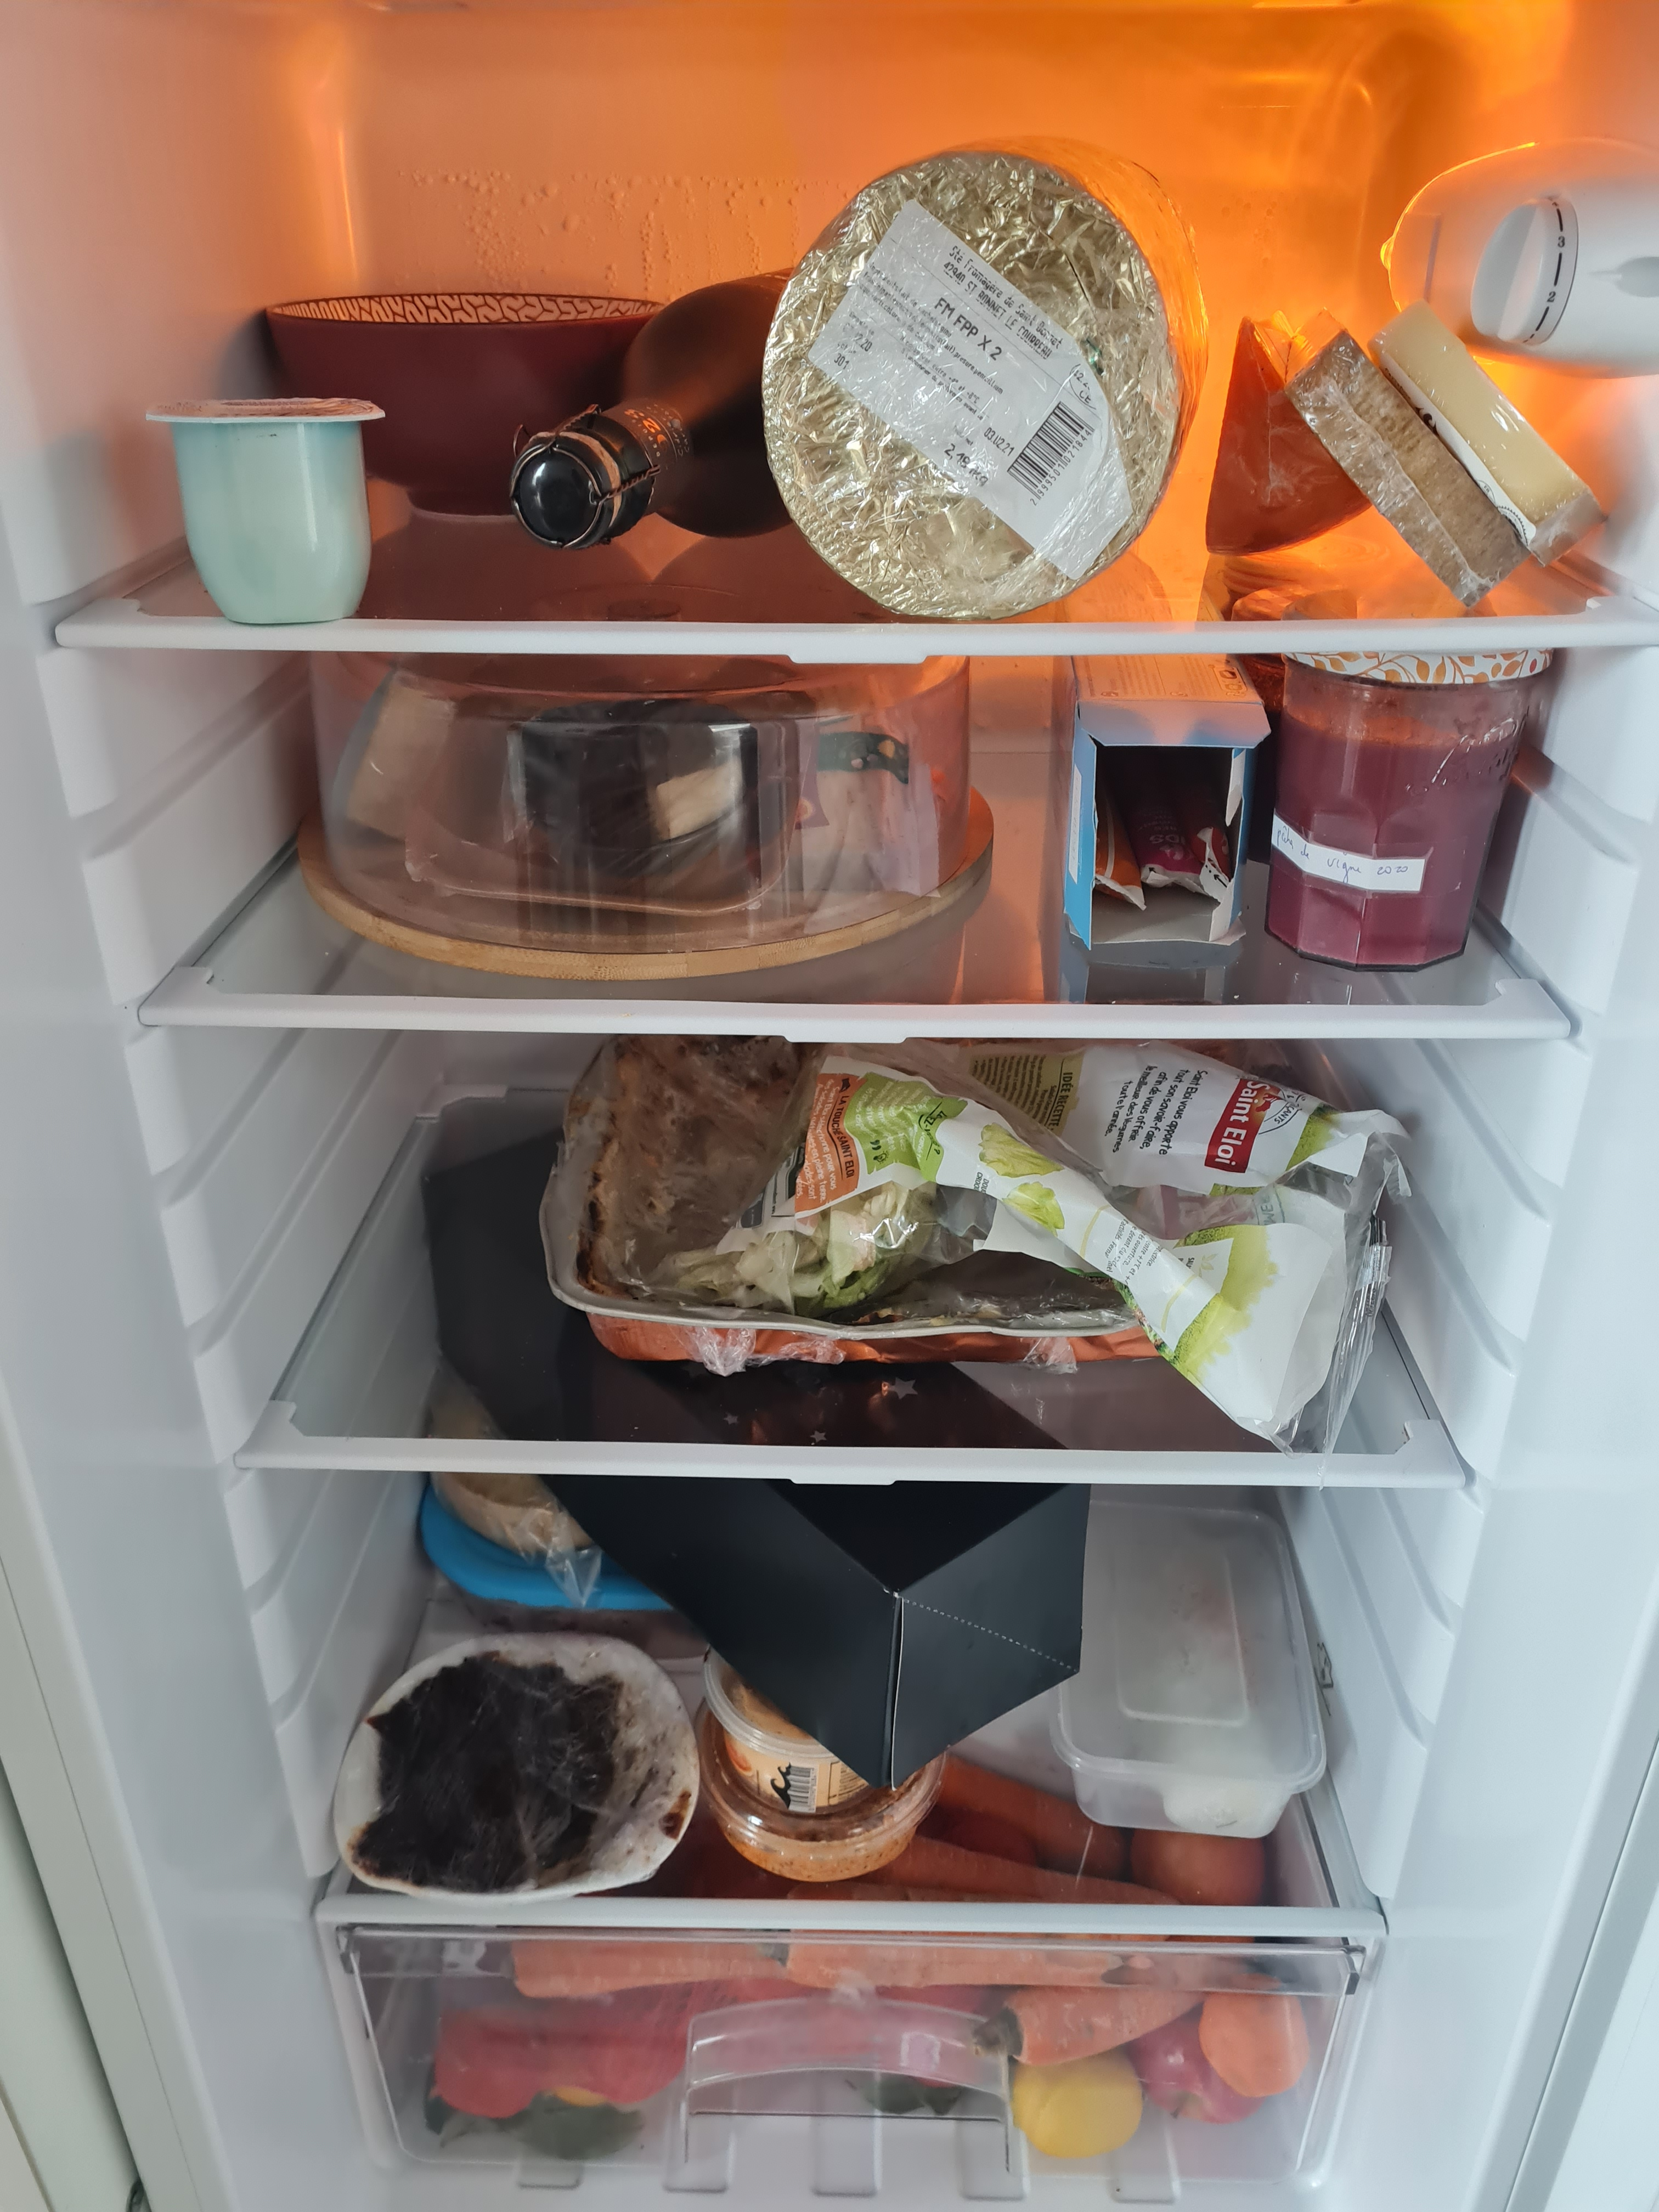bottle: (518, 263, 803, 533)
carrot: (784, 1933, 1121, 1996), (894, 1838, 1182, 1909), (936, 1752, 1121, 1860), (990, 1975, 1202, 2064), (500, 1939, 784, 1993)
lemon: (1016, 2059, 1143, 2158)
yoghurt: (143, 394, 389, 622)
